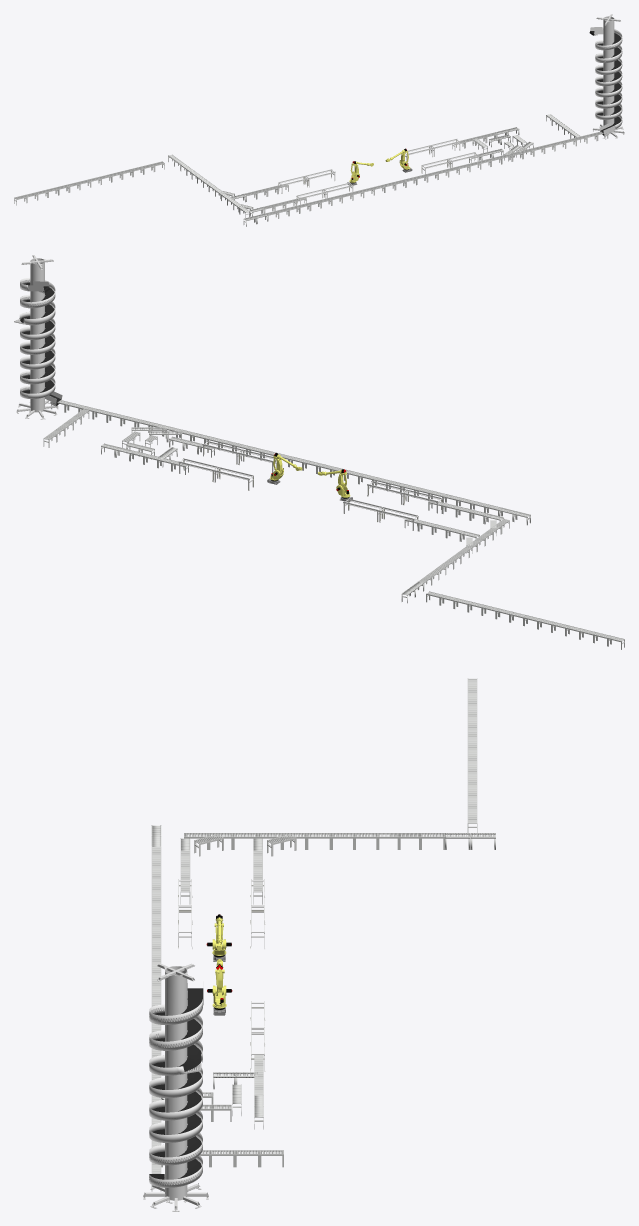
3 views of the same model, one above another, from view 1: azimuth 30°, elevation 25°; view 2: azimuth 150°, elevation 25°; view 3: azimuth 270°, elevation 25° (orthographic). The views are drawn at different scales.
Visible parts, largest first — view 1: 螺旋提升机004; view 2: 螺旋提升机004; view 3: 螺旋提升机004.
Part boxes in pixels (x1,y1,x2,y2): 螺旋提升机004: (589, 14, 624, 139); 螺旋提升机004: (14, 255, 62, 419); 螺旋提升机004: (143, 963, 208, 1211).
Size of the model in its own units: 60.24 by 12.25 by 17.24.
